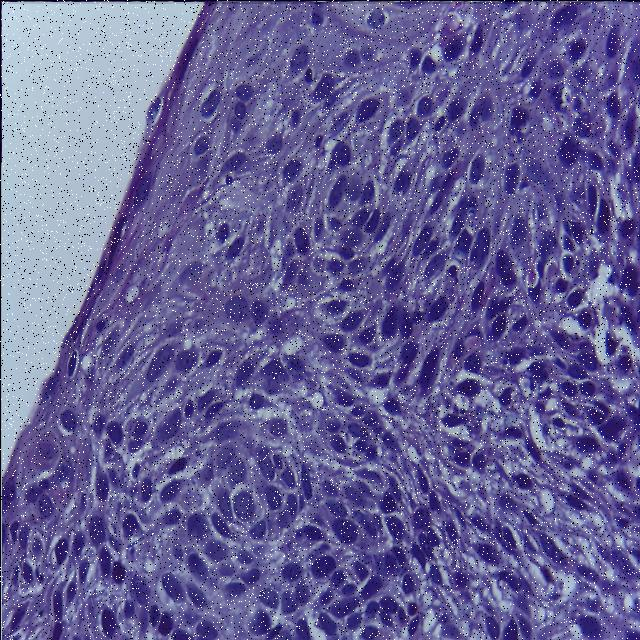Nuclear Hyperchromatism: (1, 3, 640, 638)
